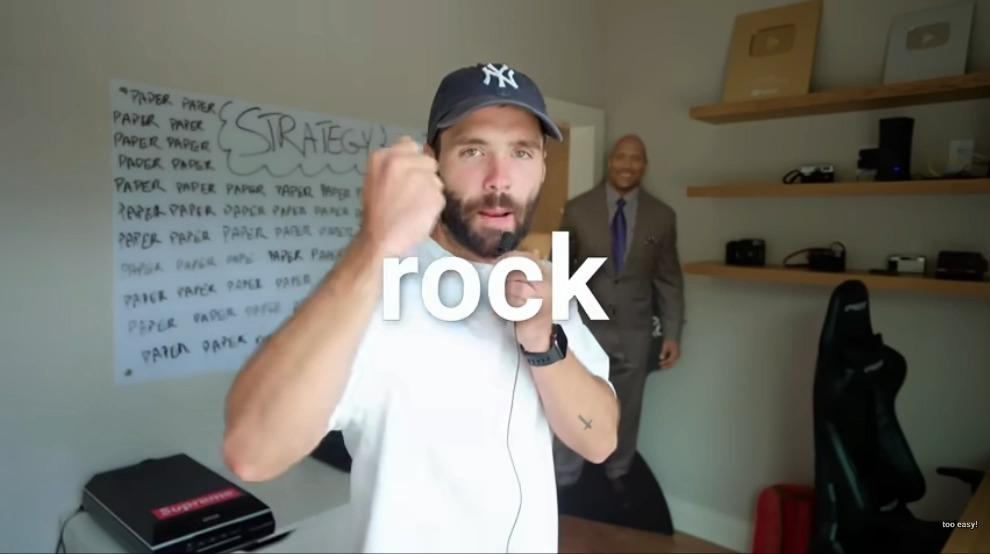Rock: (359, 135, 447, 260)
